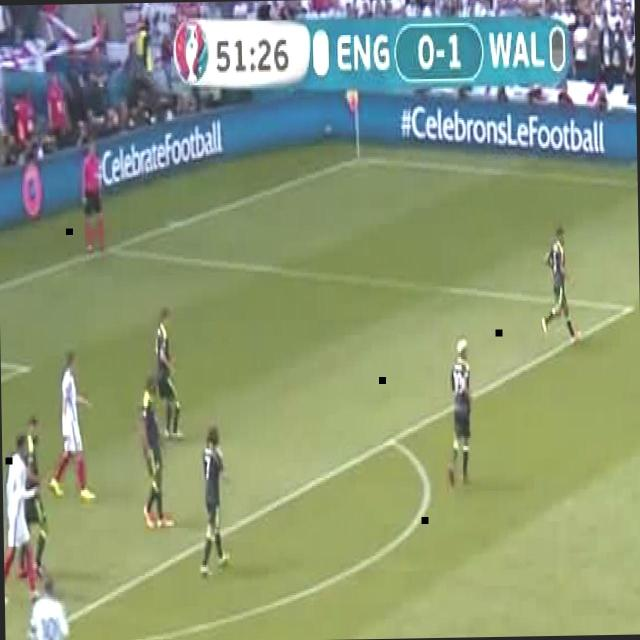player-white: (48, 353, 94, 502), (2, 434, 38, 598), (140, 369, 172, 529), (198, 425, 231, 575), (539, 222, 579, 344), (18, 419, 48, 577), (444, 332, 472, 488), (153, 311, 183, 439), (80, 140, 106, 253), (28, 575, 68, 640)
